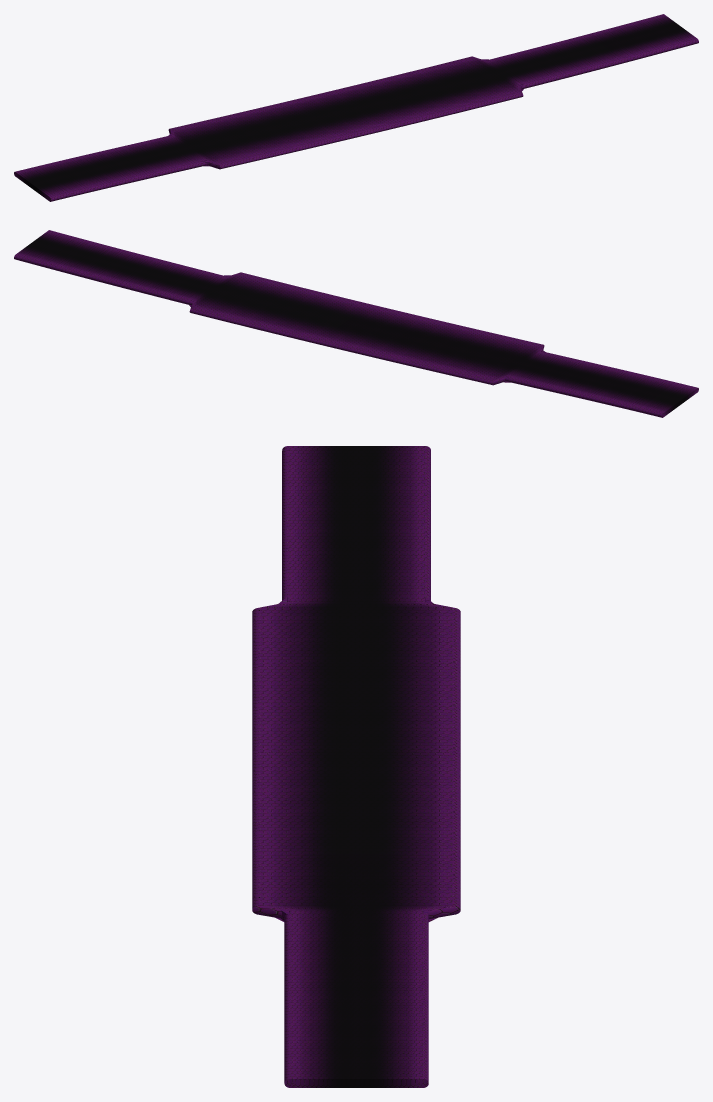
The model's file is level-02-track-11.glb.
3 views of the same model, one above another, from view 1: azimuth 30°, elevation 25°; view 2: azimuth 150°, elevation 25°; view 3: azimuth 270°, elevation 25° (orthographic). The views are drawn at different scales.
Visible parts, largest first — view 1: track-11; view 2: track-11; view 3: track-11.
Boxes of the visible parts, bbox=[...] form: track-11: bbox=[14, 14, 698, 201]; track-11: bbox=[14, 230, 698, 417]; track-11: bbox=[252, 446, 460, 1087].
Size of the model in its own units: 60.01 by 0.7122 by 8.35.
2 materials, 2 textured.
